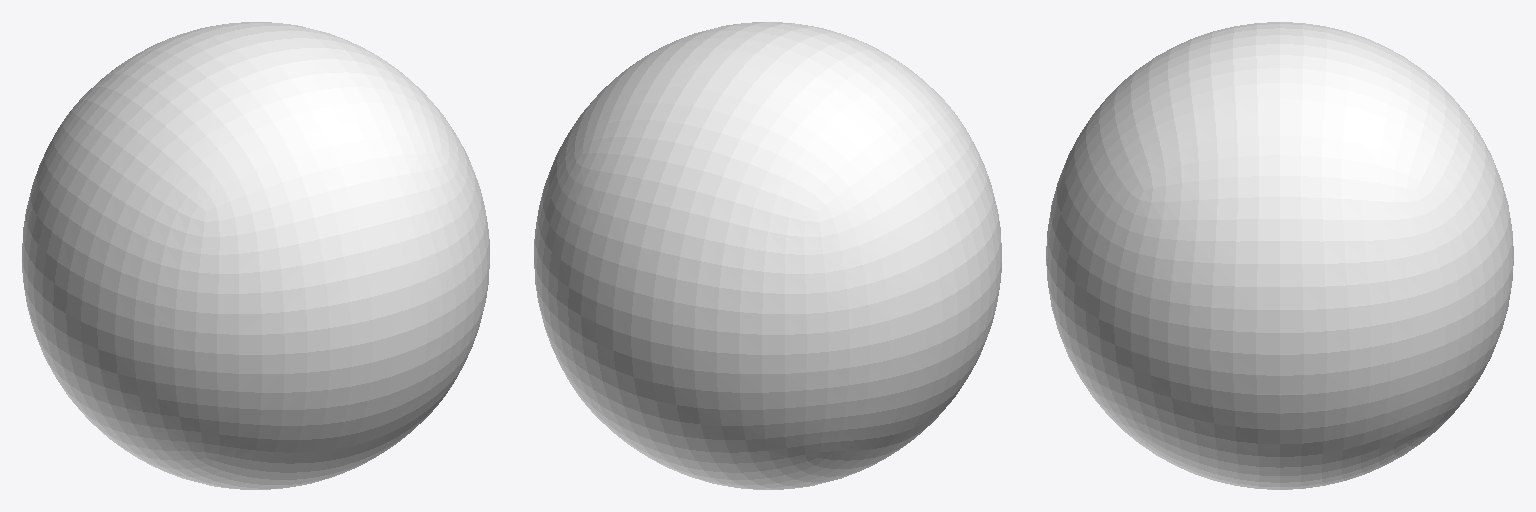
File: wooden_sphere.obj
The picture shows the model from 3 angles: view 1: azimuth 30°, elevation 25°; view 2: azimuth 150°, elevation 25°; view 3: azimuth 270°, elevation 25°; orthographic projection.
Visible parts, largest first — view 1: wooden_sphere; view 2: wooden_sphere; view 3: wooden_sphere.
Boxes of the visible parts, box(x1,y1,x2,y2) form: wooden_sphere: box(22, 22, 489, 489); wooden_sphere: box(534, 22, 1001, 489); wooden_sphere: box(1046, 22, 1513, 489).
Bounding box in the file's own units: 6.97 × 6.97 × 6.97.